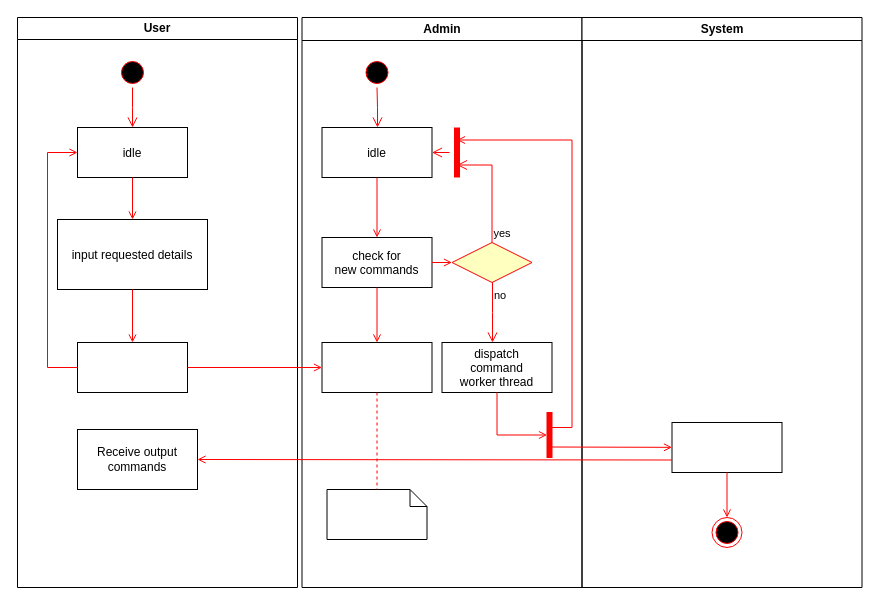
This 880x605 diagram has some shape labels left out. The centre of each missing label's shape, as x and y in pixels:
"command queue" goes at [376,367].
"contact third parties" goes at [376,514].
"post command" goes at [132,367].
"process command" goes at [726,447].
"queue empty" goes at [491,262].
